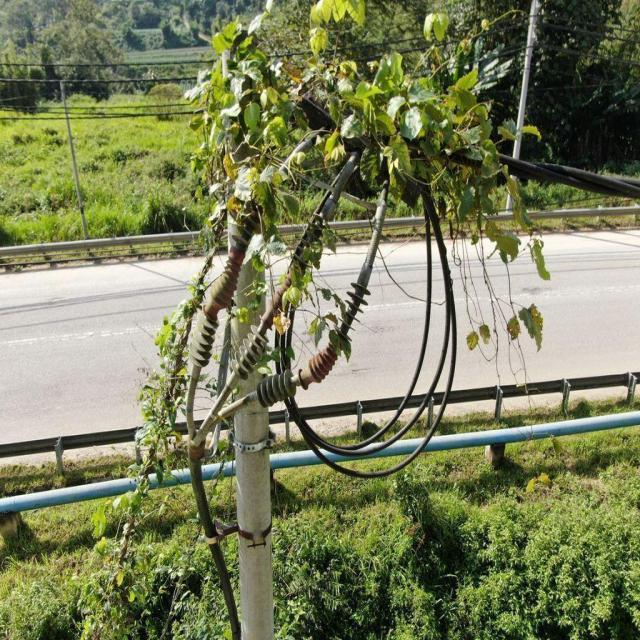critical vegetation: (92, 1, 564, 580)
